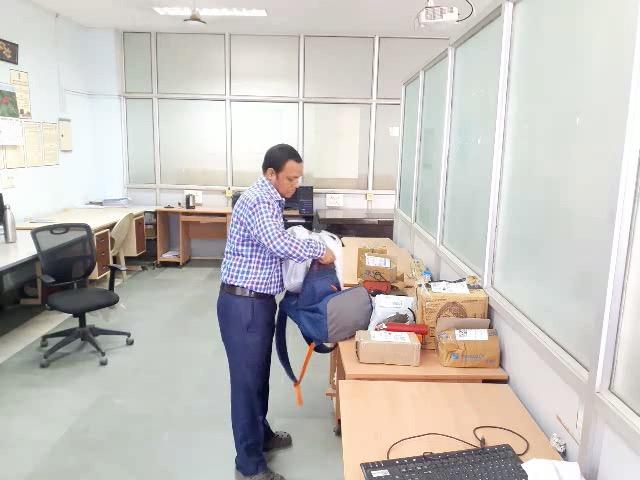shoplifting: (177, 196, 406, 342)
